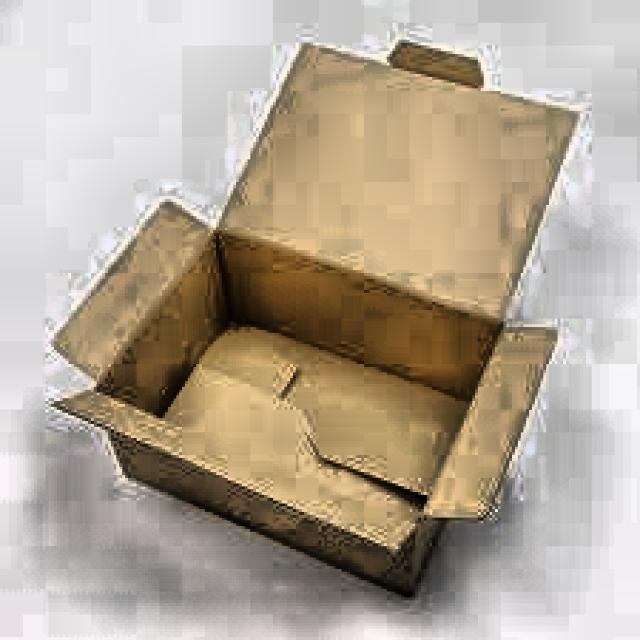Cardbox: (52, 27, 620, 596)
